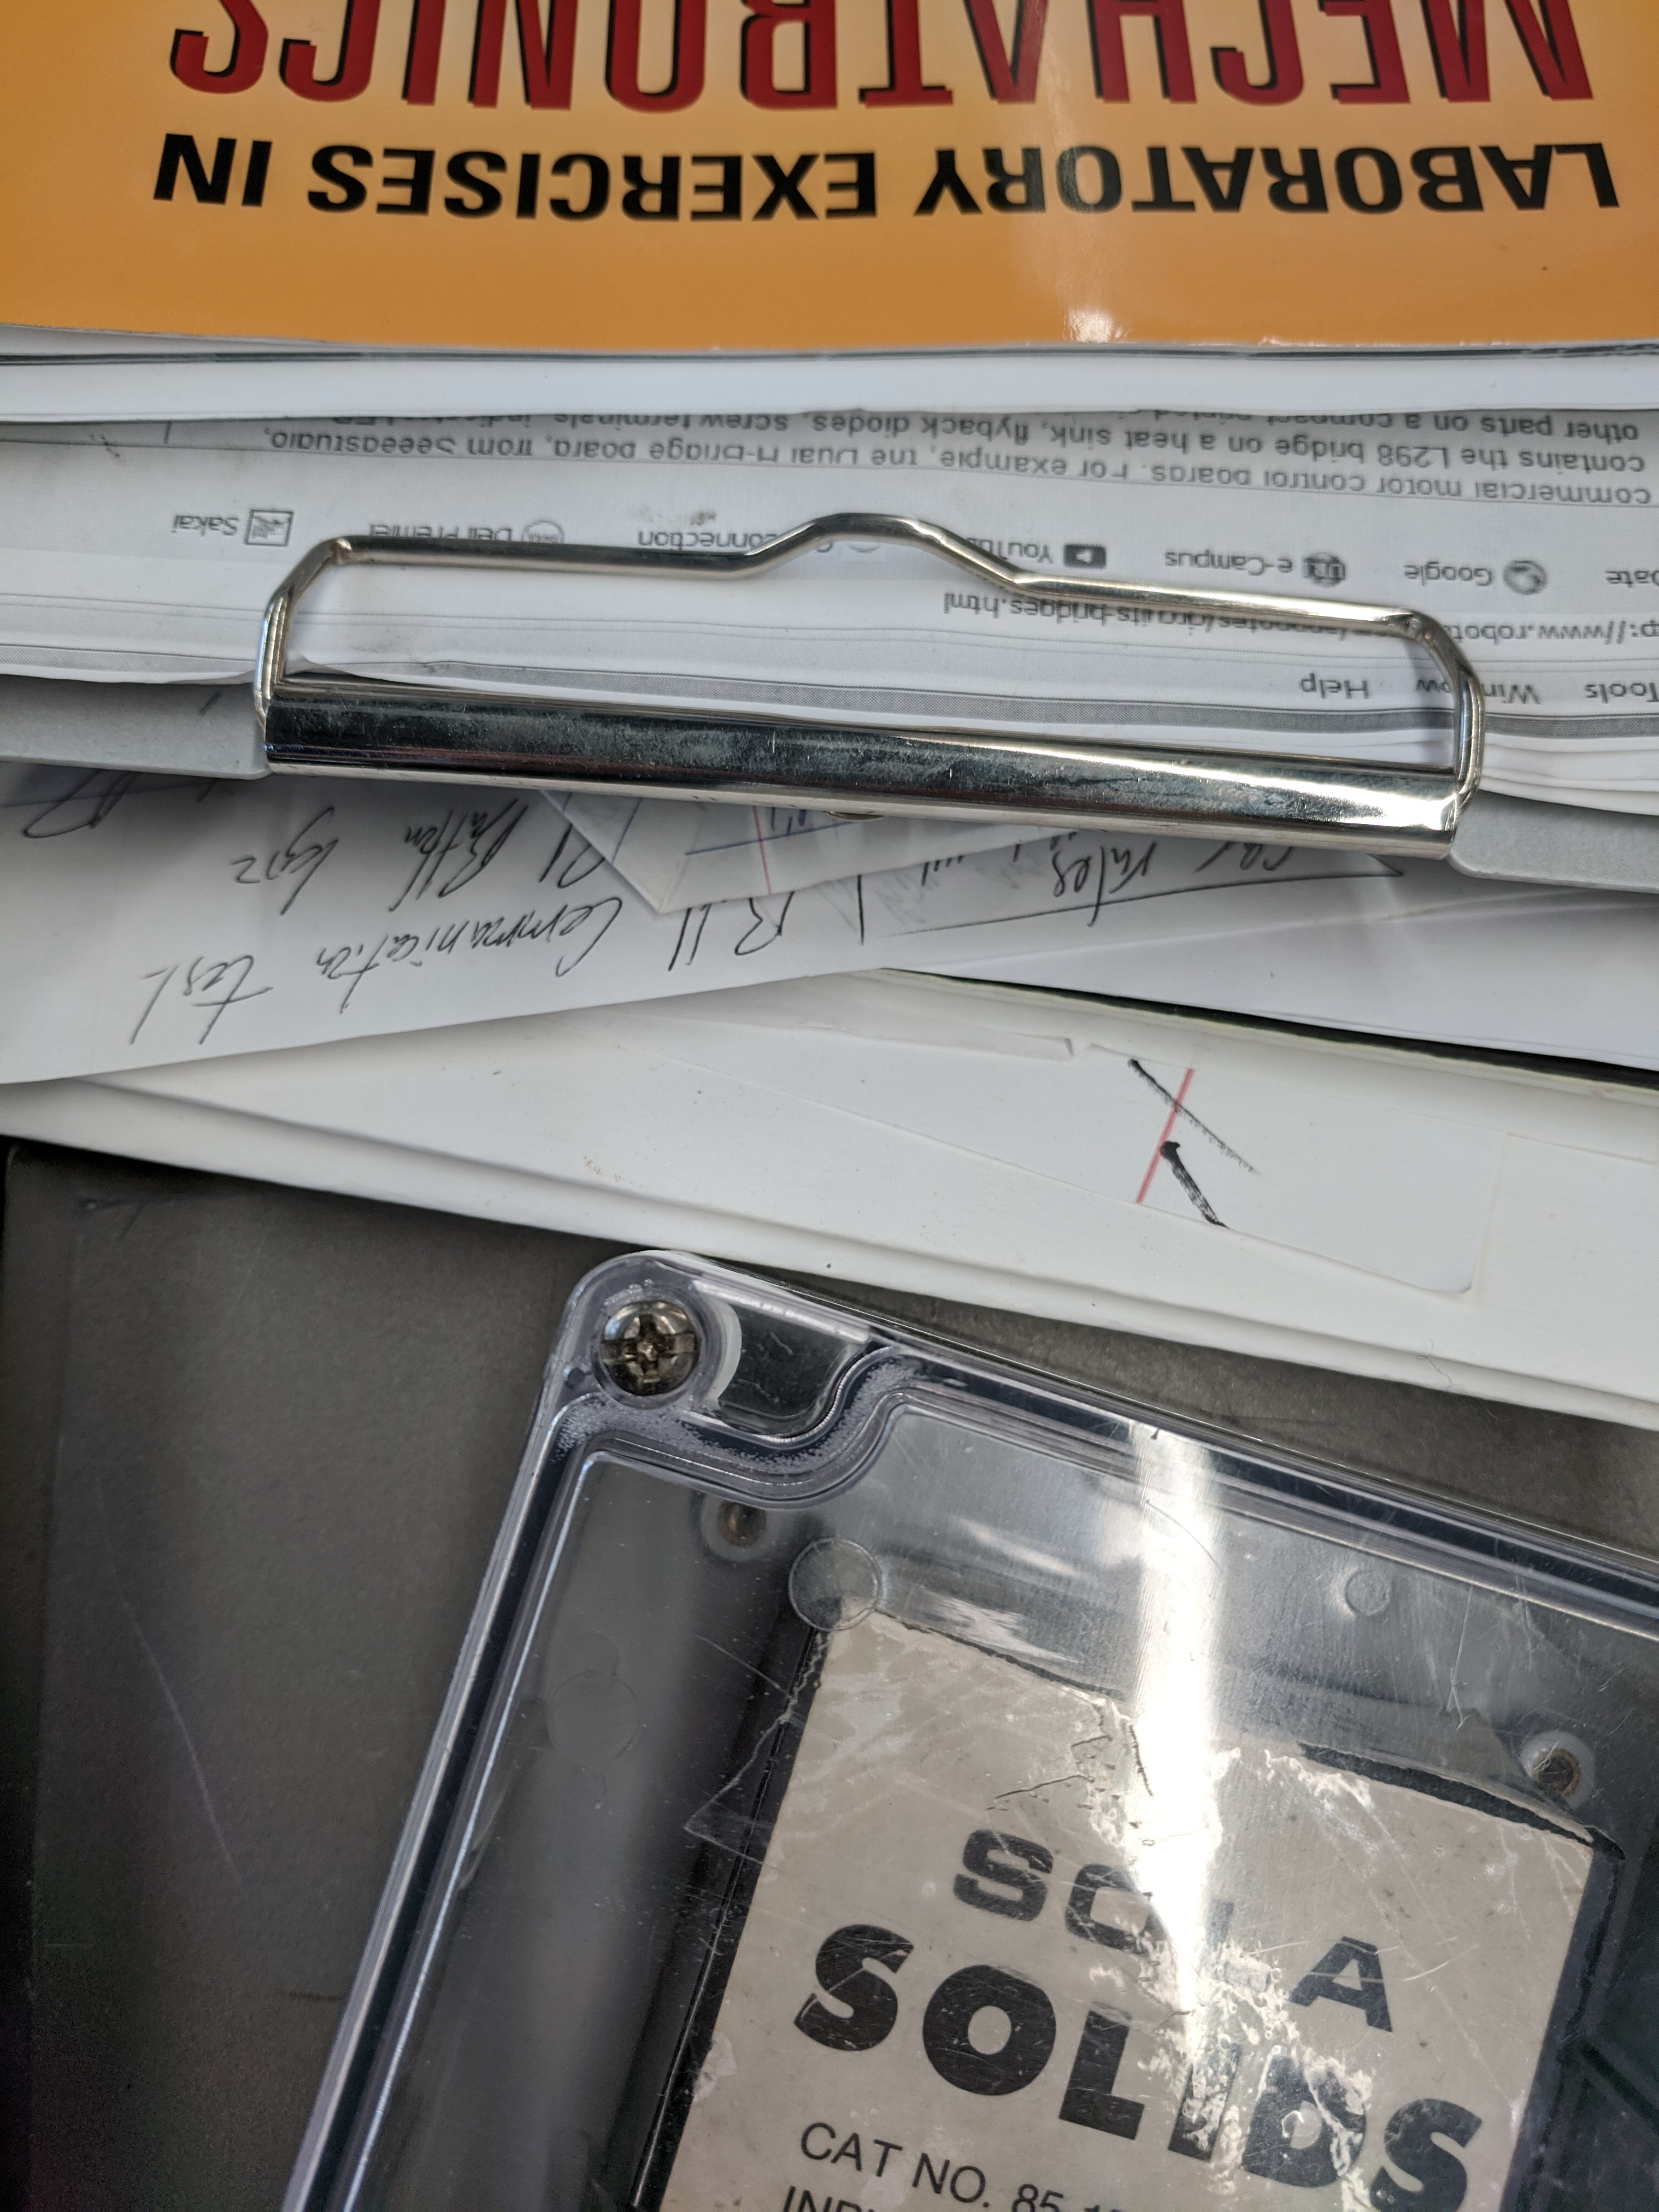cross_recessed_screw: (587, 1271, 687, 1400)
